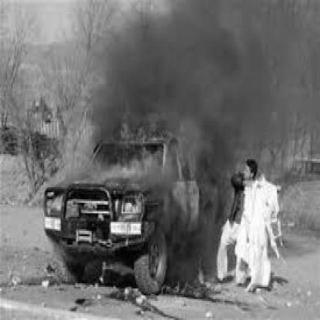Fire: (114, 104, 154, 176), (192, 249, 208, 295)
Smoke: (94, 15, 274, 129), (163, 214, 223, 280)
